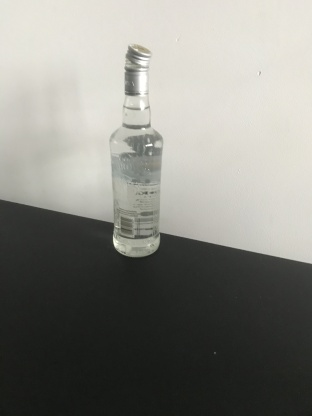nakretka: (122, 42, 153, 96)
